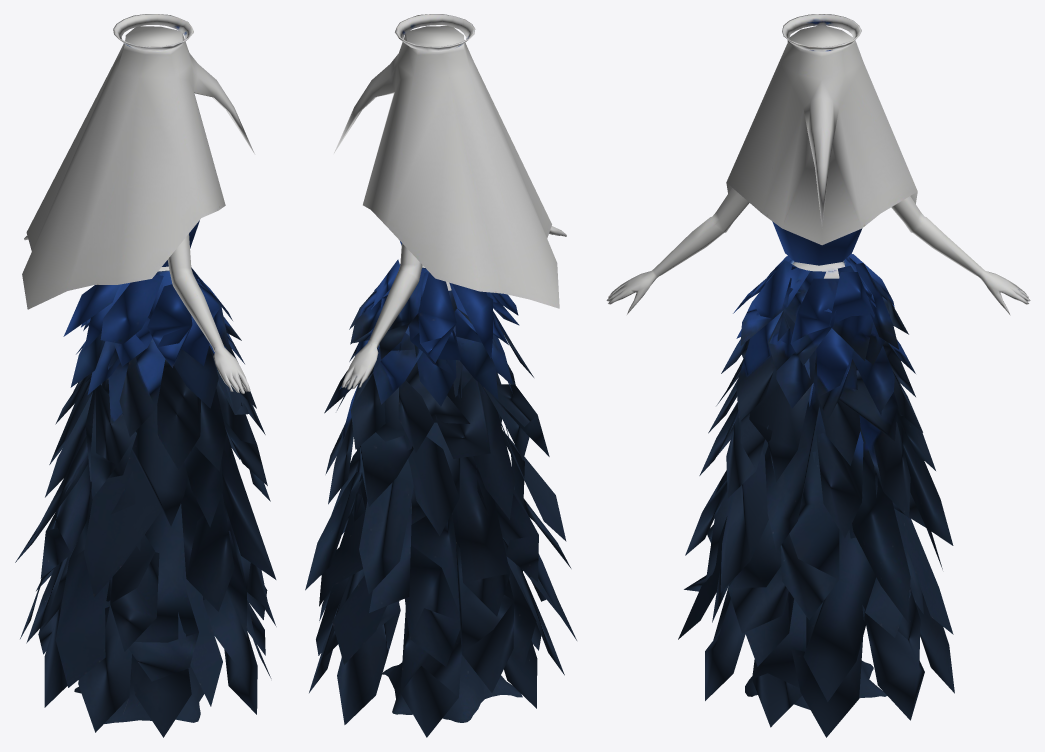
3 renders of one model, left to right at view 1: azimuth 30°, elevation 25°; view 2: azimuth 150°, elevation 25°; view 3: azimuth 270°, elevation 25°, orthographic.
Parts seen in each view (by area): view 1: tripo_node_e46cc25a-4a4a-4a41-9261-14fdfb291bd4; view 2: tripo_node_e46cc25a-4a4a-4a41-9261-14fdfb291bd4; view 3: tripo_node_e46cc25a-4a4a-4a41-9261-14fdfb291bd4.
Part boxes in pixels (<box>): tripo_node_e46cc25a-4a4a-4a41-9261-14fdfb291bd4: <box>15,14,276,737</box>; tripo_node_e46cc25a-4a4a-4a41-9261-14fdfb291bd4: <box>305,14,576,737</box>; tripo_node_e46cc25a-4a4a-4a41-9261-14fdfb291bd4: <box>606,14,1030,737</box>.
Size of the model in its own units: 0.377 by 0.998 by 0.5801.
Materials: 1 (1 with a texture image).
